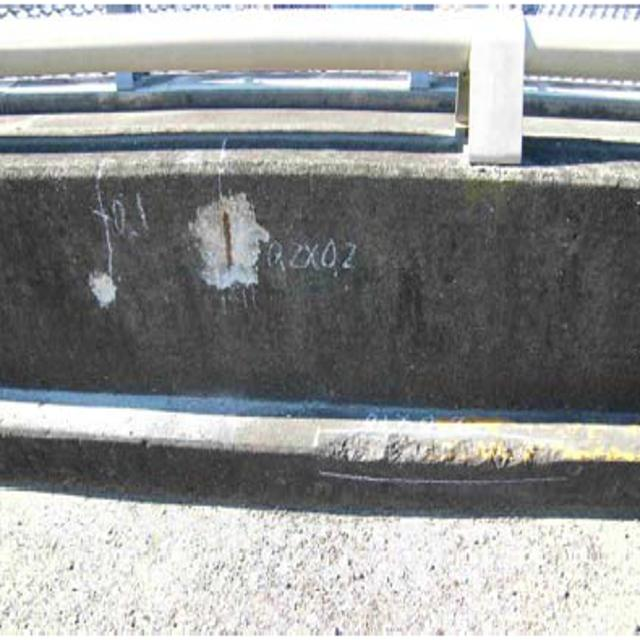spalling: (308, 417, 572, 492), (174, 182, 269, 294)
